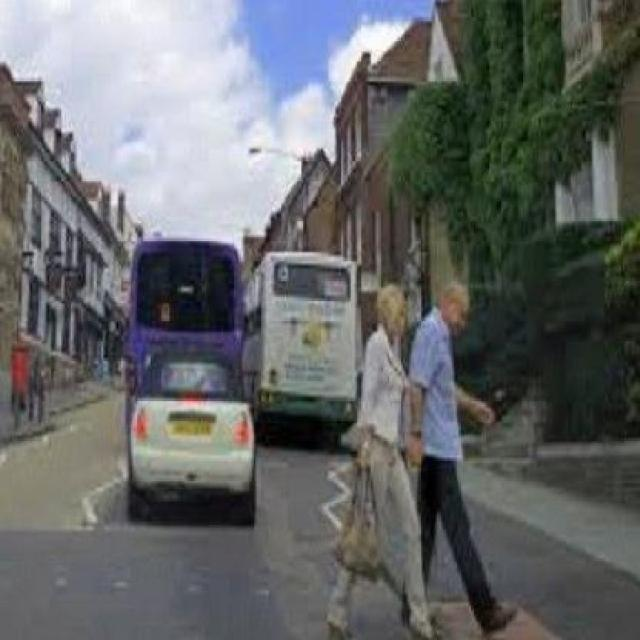Person: (318, 283, 442, 639), (403, 272, 520, 638)
